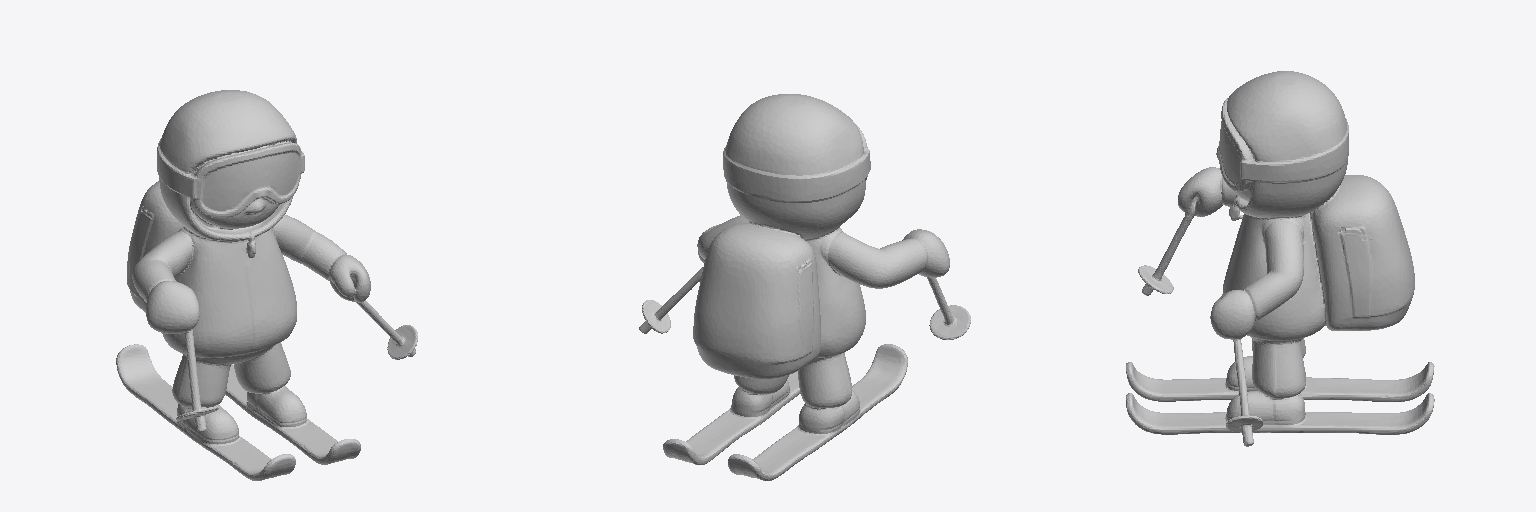
File: player.obj
3 views of the same model, side by side, from view 1: azimuth 30°, elevation 25°; view 2: azimuth 150°, elevation 25°; view 3: azimuth 270°, elevation 25° (orthographic).
Parts seen in each view (by area): view 1: tmpmpe7kz9g.ply; view 2: tmpmpe7kz9g.ply; view 3: tmpmpe7kz9g.ply.
Part boxes in pixels (bbox=[...]): tmpmpe7kz9g.ply: bbox=[116, 90, 417, 480]; tmpmpe7kz9g.ply: bbox=[639, 94, 970, 480]; tmpmpe7kz9g.ply: bbox=[1126, 71, 1434, 446].
Size of the model in its own units: 1.83 by 1.99 by 1.7.